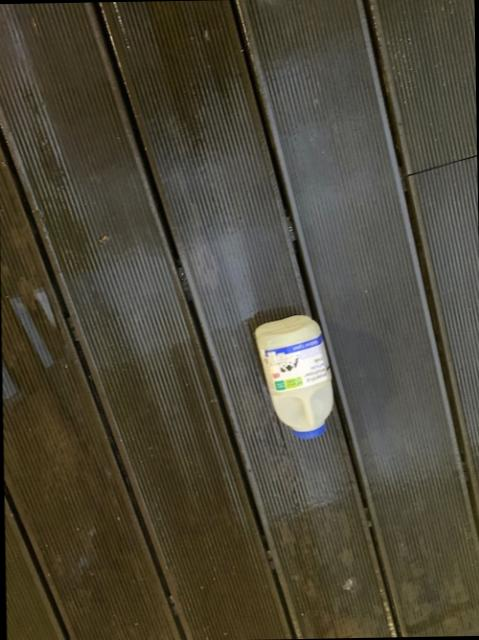plastic: (255, 317, 333, 439)
